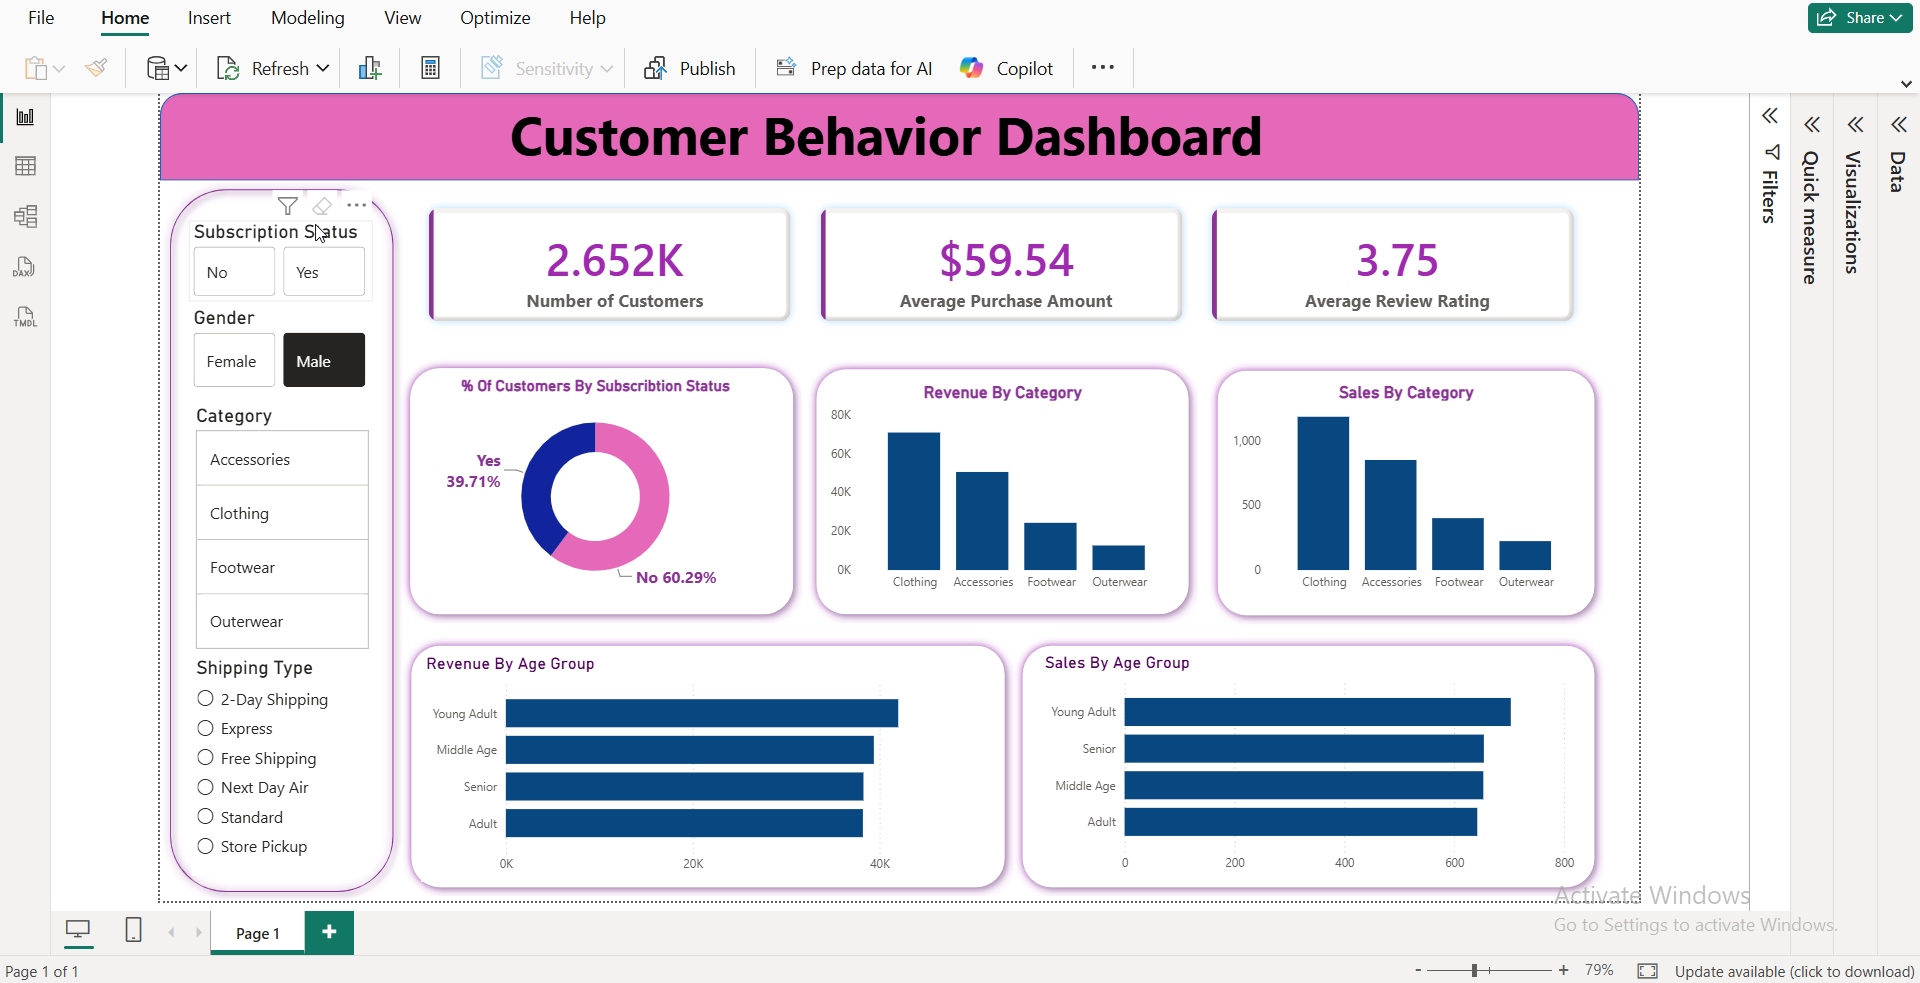

The dashboard page shown, as its layout file describes it:
{"tool":"powerbi","page":{"name":"Page 1","canvas":[1500,820],"ordinal":0},"visuals":[{"type":"cardVisual","fields":{"Data":["customer.Number of Customer","customer.Average Purchase Amount","customer.Average Review Rating"]},"box":[244.5,88.8,1219.6,171.3],"z":0},{"type":"shape","box":[0,0,1500,88.8],"z":1000},{"type":"textbox","box":[333.3,0,806.9,88.8],"z":1001},{"type":"shape","box":[244.5,269.5,406.5,267.9],"z":1002},{"type":"donutChart","title":"% Of Customers By Subscribtion Status","fields":{"Category":["customer.subscription_status"],"Y":["CountNonNull(customer.subscription_status)"]},"box":[264.8,288.2,353.6,225.9],"z":1003},{"type":"shape","box":[1063.9,272.6,400.3,266.4],"z":1004},{"type":"shape","box":[657.3,271,395.6,266.4],"z":1005},{"type":"clusteredColumnChart","title":"Revenue By Category","fields":{"Category":["customer.category"],"Y":["Sum(customer.purchase_amount)"]},"box":[676,292.8,358.3,221.2],"z":1006},{"type":"clusteredColumnChart","title":"Sales By Category","fields":{"Category":["customer.category"],"Y":["CountNonNull(customer.customer_id)"]},"box":[1082.6,292.8,362.9,221.2],"z":1007},{"type":"shape","box":[1.6,88.8,244.5,730.5],"z":1008},{"type":"advancedSlicerVisual","fields":{"Values":["customer.subscription_status"]},"box":[29.6,129.3,185.4,82.6],"z":1009},{"type":"advancedSlicerVisual","fields":{"Values":["customer.gender"]},"box":[29.6,216.5,185.4,87.2],"z":1010},{"type":"advancedSlicerVisual","fields":{"Values":["customer.category"]},"box":[31.2,316.2,185.4,255.5],"z":1011},{"type":"listSlicer","fields":{"Values":["customer.shipping_type"]},"box":[31.2,571.7,183.8,222.7],"z":1012},{"type":"shape","box":[246.1,551.4,619.9,263.2],"z":1014},{"type":"barChart","title":"Revenue By Age Group","fields":{"Y":["Sum(customer.purchase_amount)"],"Category":["customer.age_group"]},"box":[264.8,568.5,574.8,232.1],"z":1015},{"type":"shape","box":[866,551.4,598.1,263.2],"z":1016},{"type":"barChart","title":"Sales By Age Group","fields":{"Category":["customer.age_group"],"Y":["CountNonNull(customer.customer_id)"]},"box":[892.5,567,546.7,232.1],"z":1017}]}

Visuals, with their boxes on the page's 1500x820 design canvas (x1, y1, x2, y2). These are canvas units, not pixel positions in the 1920x983 screenshot, which may show the page scaled, cropped or inside an application window:
cardVisual - customer.Number of Customer x customer.Average Purchase Amount: (244,89,1464,260)
shape: (0,0,1500,89)
textbox: (333,0,1140,89)
shape: (244,270,651,537)
"% Of Customers By Subscribtion Status" donutChart: (265,288,618,514)
shape: (1064,273,1464,539)
shape: (657,271,1053,537)
"Revenue By Category" clusteredColumnChart: (676,293,1034,514)
"Sales By Category" clusteredColumnChart: (1083,293,1446,514)
shape: (2,89,246,819)
advancedSlicerVisual - customer.subscription_status: (30,129,215,212)
advancedSlicerVisual - customer.gender: (30,216,215,304)
advancedSlicerVisual - customer.category: (31,316,217,572)
listSlicer - customer.shipping_type: (31,572,215,794)
shape: (246,551,866,815)
"Revenue By Age Group" barChart: (265,568,840,801)
shape: (866,551,1464,815)
"Sales By Age Group" barChart: (892,567,1439,799)
